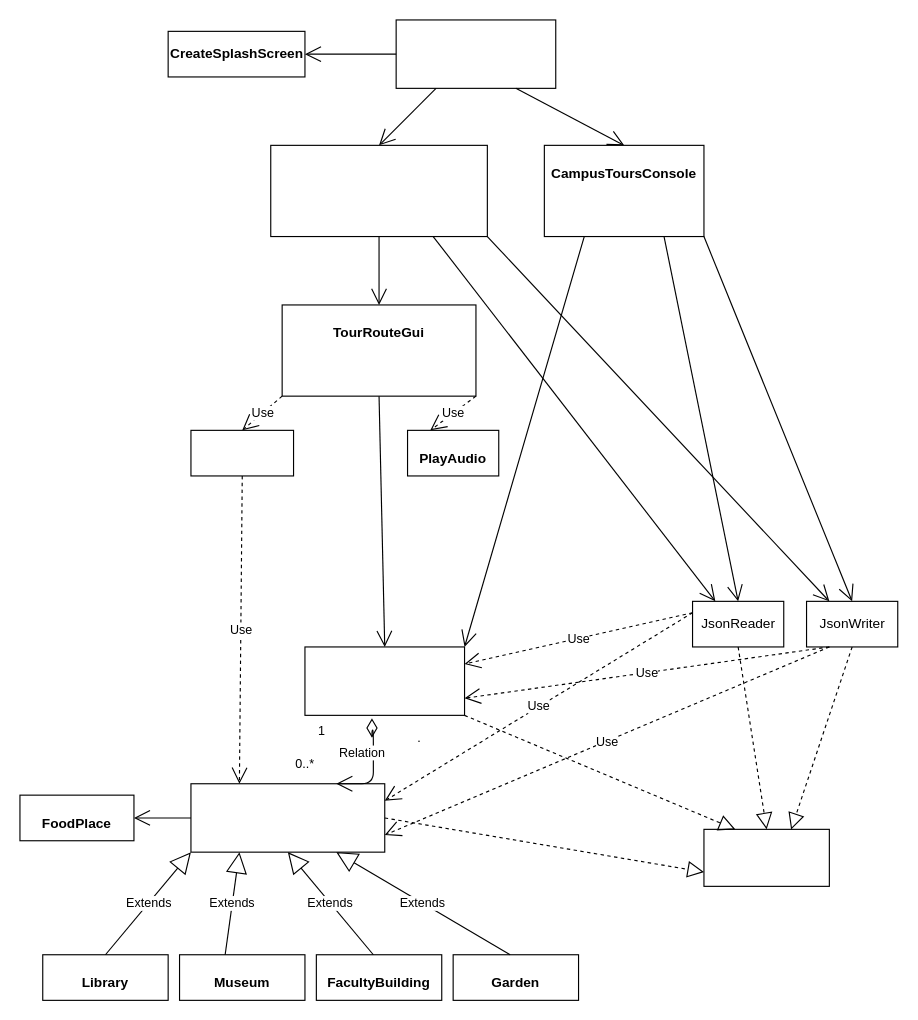
This 918x1020 diagram has some shape labels left out. The centre of each missing label's shape, as x and y in pixels:
<<abstract>> TourStop: the point at 287,817
CampusToursGuiFrame: the point at 378,190
Main: the point at 475,53
TourRoute: the point at 384,680
TourStopPrinter: the point at 242,452
«interface» Writable: the point at 766,857
